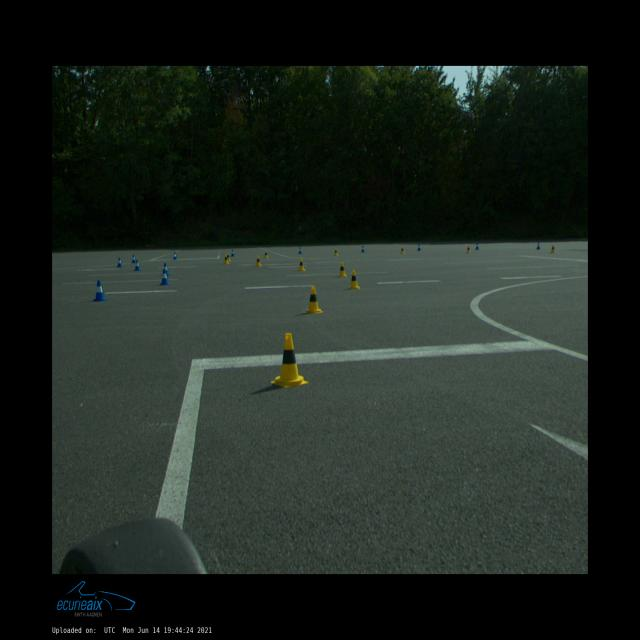blue_cone: (94, 280, 107, 302), (159, 269, 170, 285), (162, 262, 170, 276), (134, 260, 141, 271), (116, 258, 123, 268), (131, 255, 136, 263), (536, 242, 541, 249), (475, 243, 479, 250), (417, 244, 421, 251), (361, 245, 365, 252), (298, 247, 302, 254), (173, 252, 177, 259), (230, 250, 234, 256)
yellow_cone: (271, 333, 308, 388), (304, 286, 323, 314), (348, 270, 359, 289), (338, 262, 347, 276), (298, 258, 306, 271), (255, 255, 262, 267), (223, 254, 230, 264), (550, 244, 556, 253), (466, 245, 471, 253), (400, 246, 405, 254), (264, 250, 269, 258), (227, 252, 231, 262), (334, 248, 338, 256)
